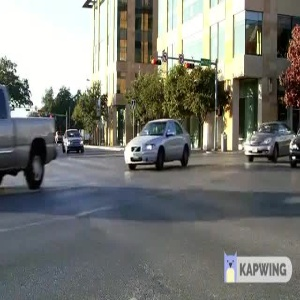car: (118, 113, 197, 175), (240, 121, 298, 164)
